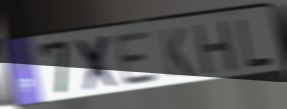7: (37, 40, 71, 99)
E: (113, 29, 162, 89)
H: (191, 18, 240, 78)
K: (156, 26, 197, 80)
L: (235, 18, 276, 69)
X: (73, 33, 122, 95)
